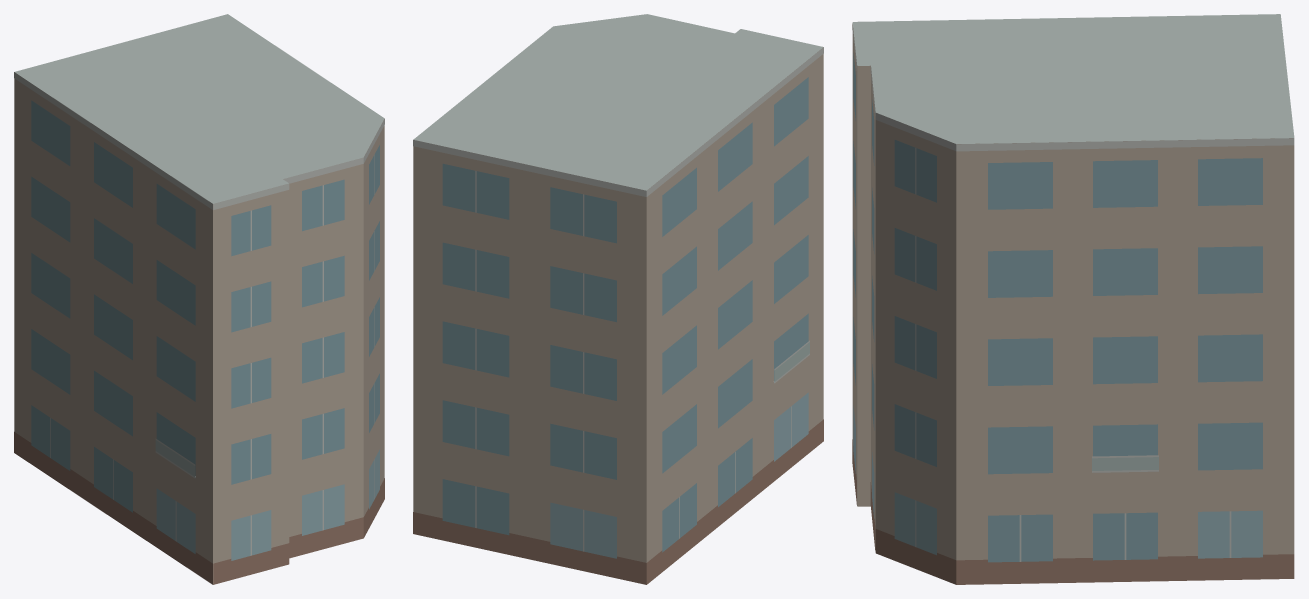
File: survey-upis-32738832.glb
3 renders of one model, left to right at view 1: azimuth 30°, elevation 25°; view 2: azimuth 150°, elevation 25°; view 3: azimuth 270°, elevation 25°, orthographic. The views are drawn at different scales.
Parts seen in each view (by area): view 1: survey-upis-32738832.tmp; view 2: survey-upis-32738832.tmp; view 3: survey-upis-32738832.tmp.
Boxes of the visible parts, <box> form: survey-upis-32738832.tmp: <box>14,14,384,584</box>; survey-upis-32738832.tmp: <box>413,14,823,584</box>; survey-upis-32738832.tmp: <box>852,14,1294,584</box>.
Bounding box in the file's own units: 9.38 × 14.8 × 13.46.
